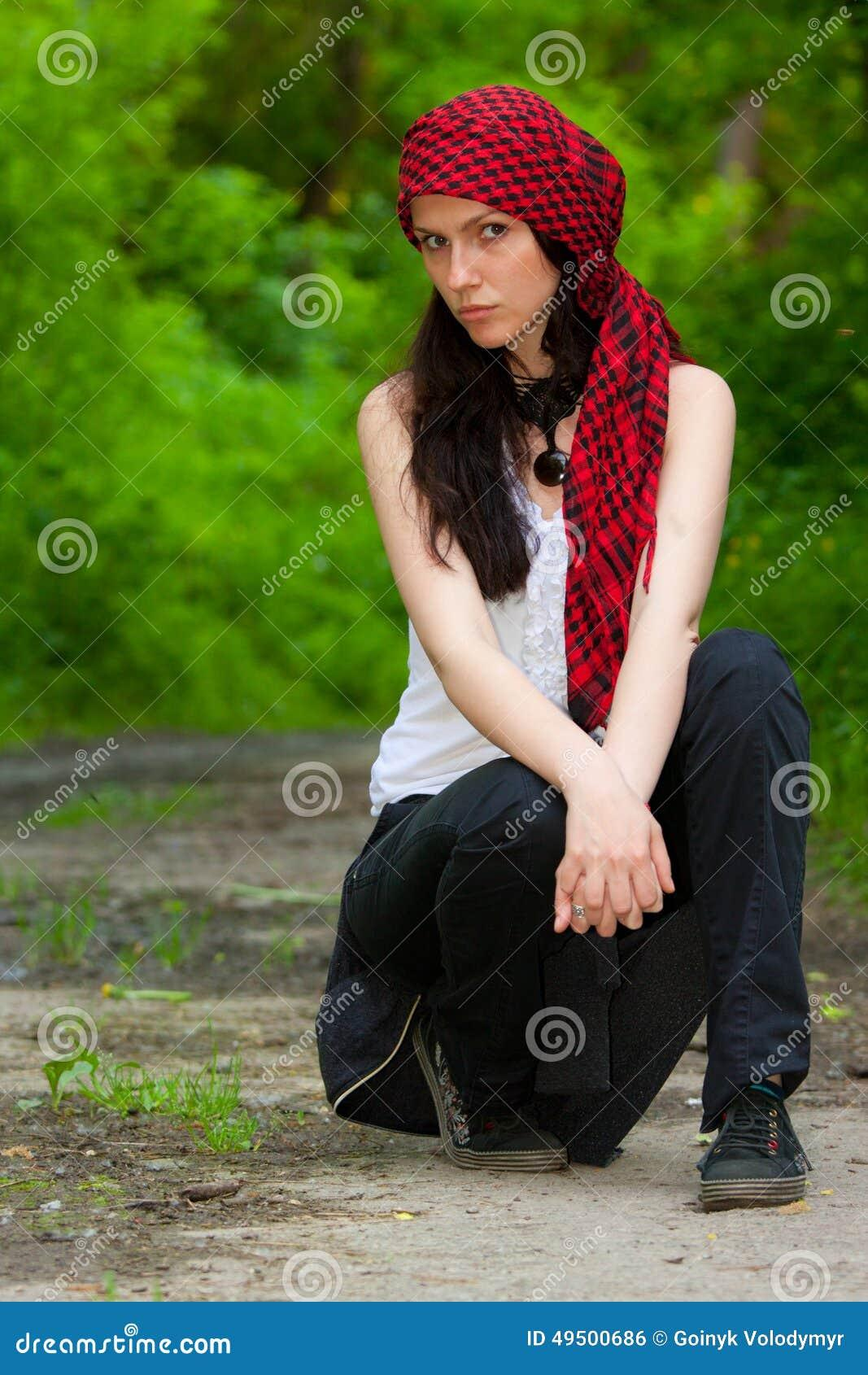cap: (378, 65, 667, 297)
